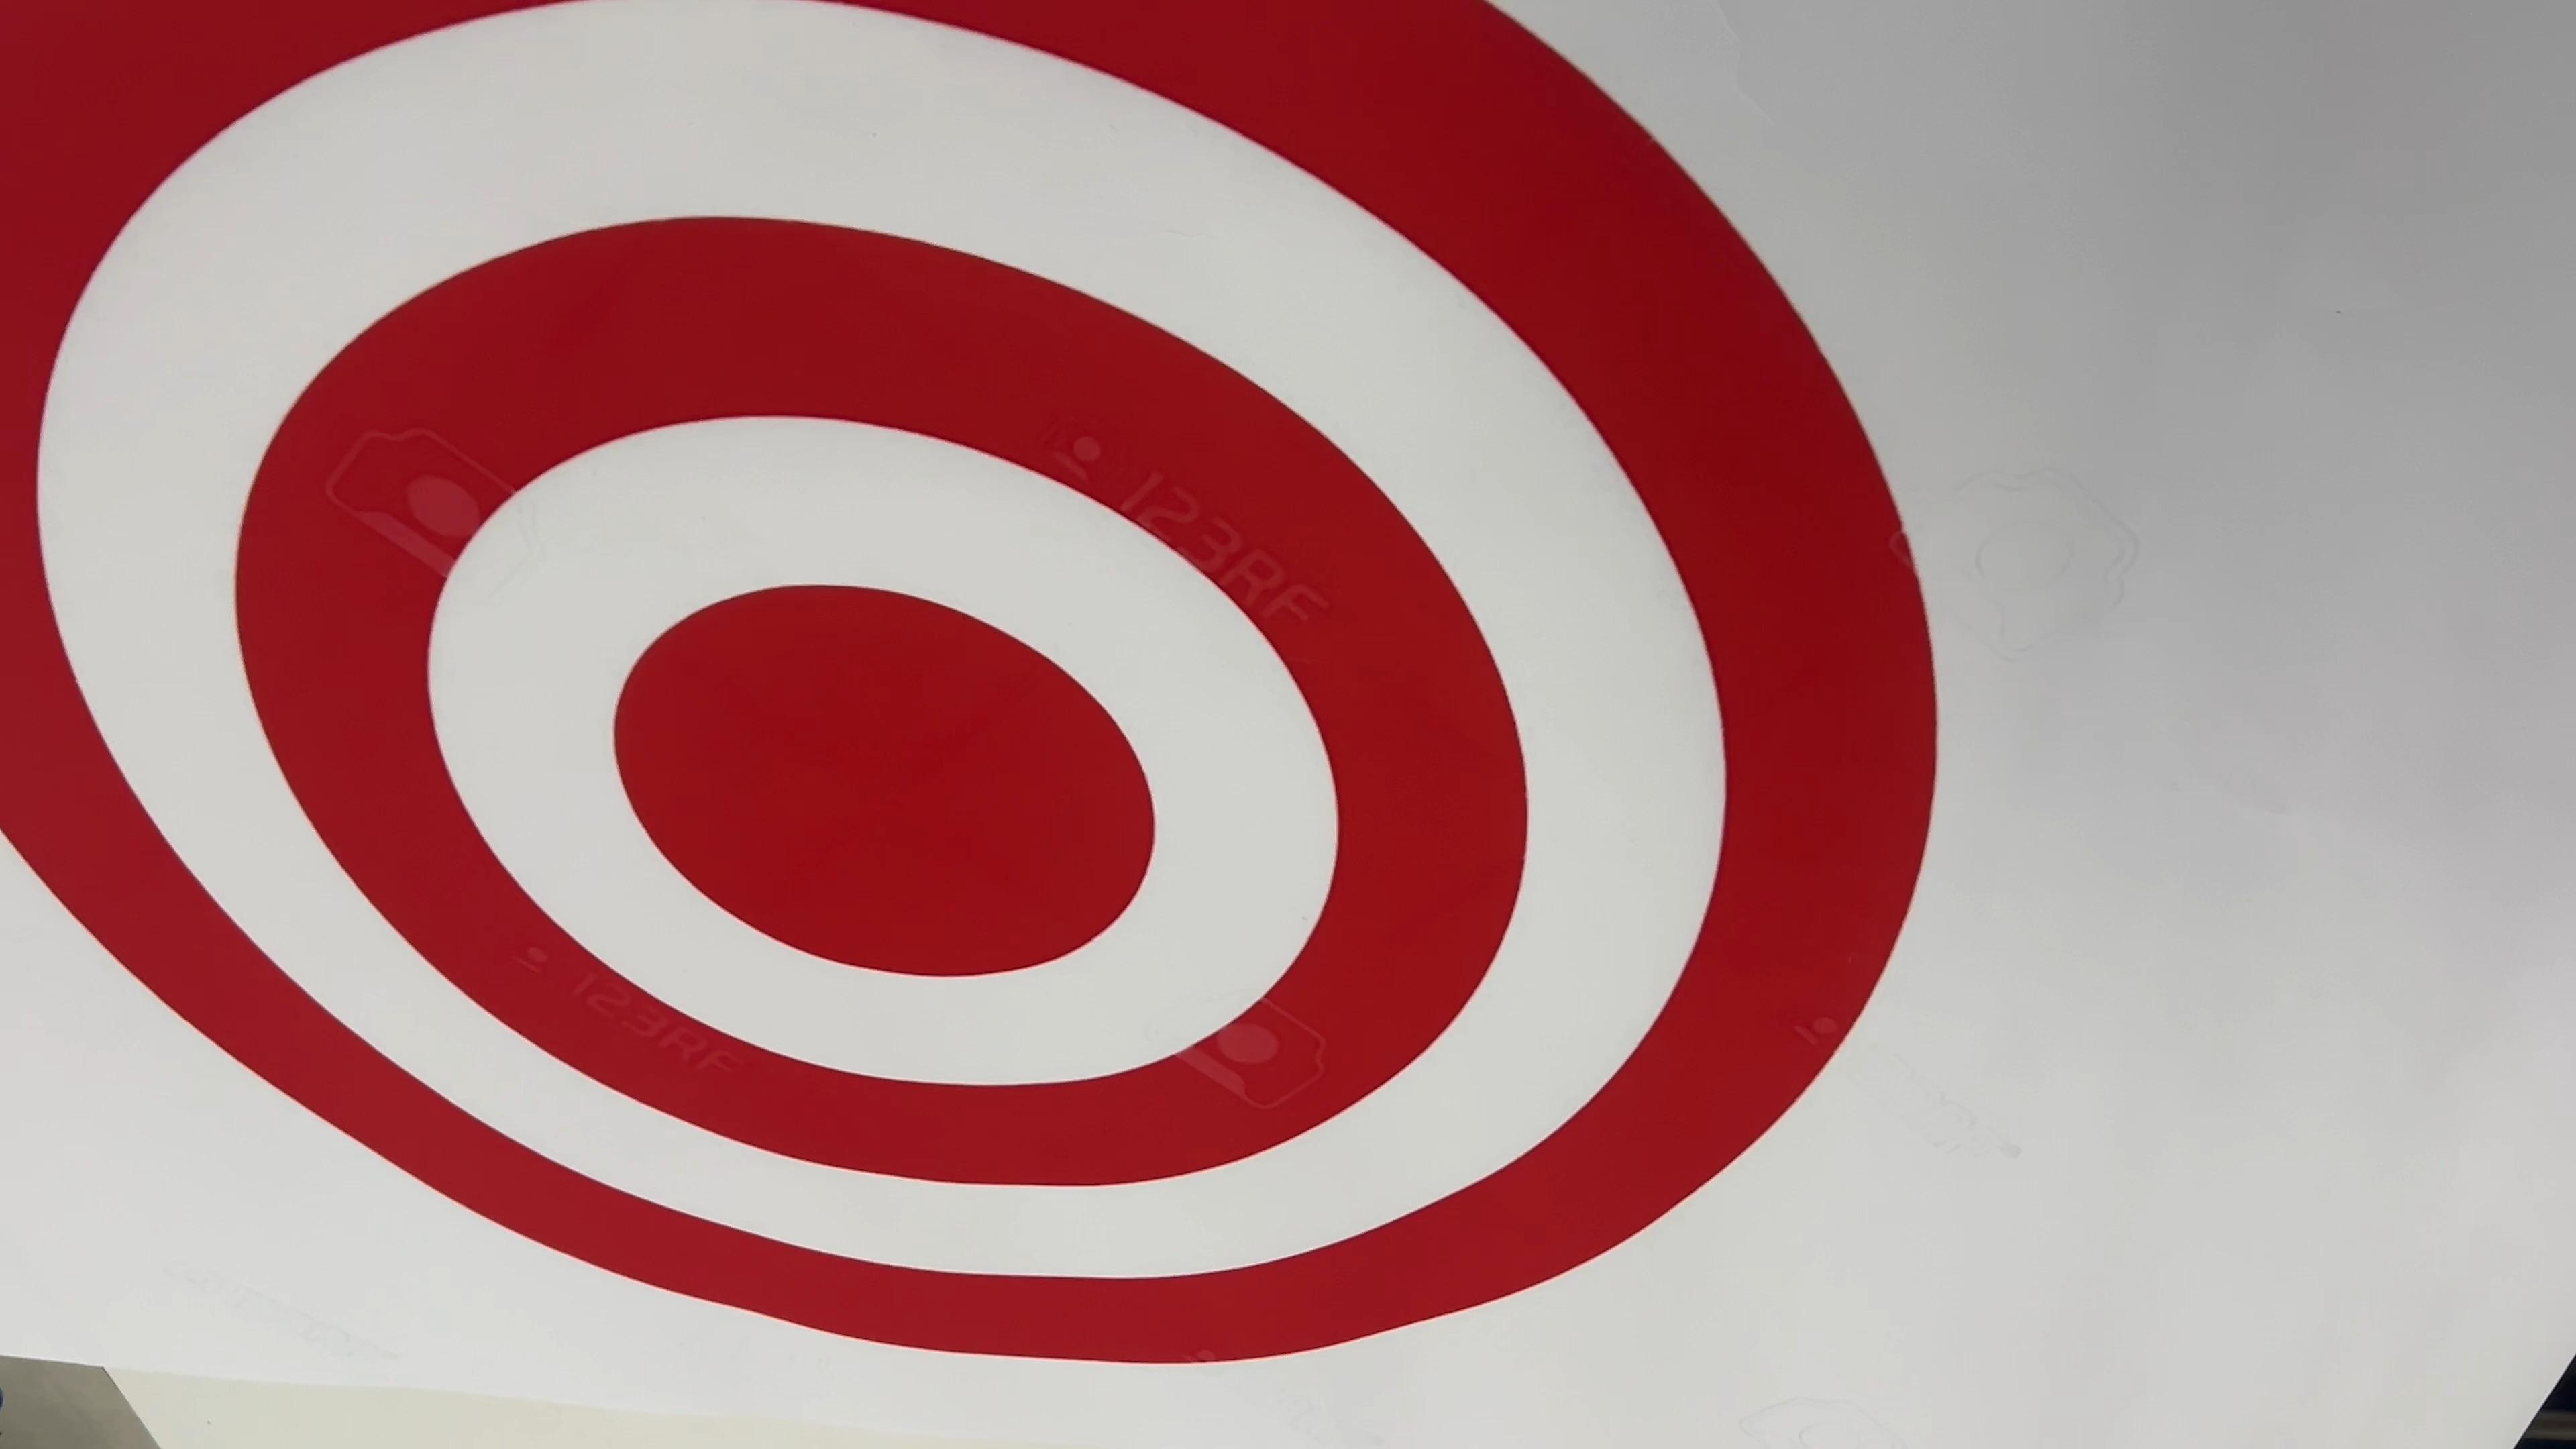target_red: (11, 0, 2075, 1449)
